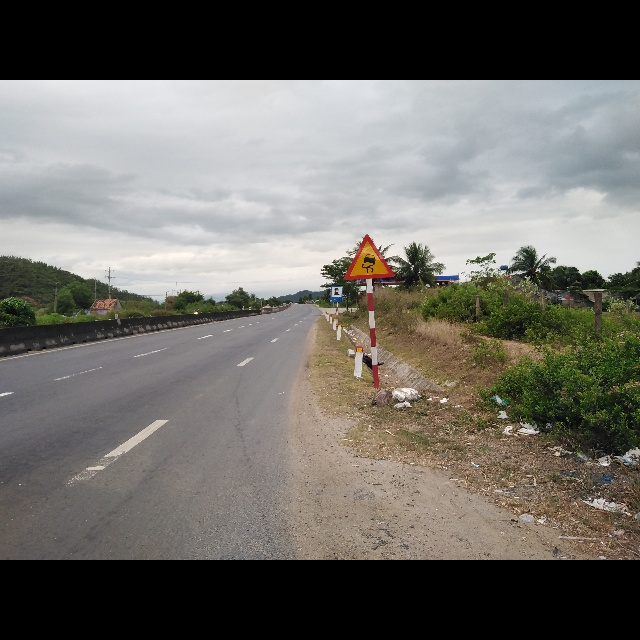Đường trơn trượt: (345, 232, 397, 281)
